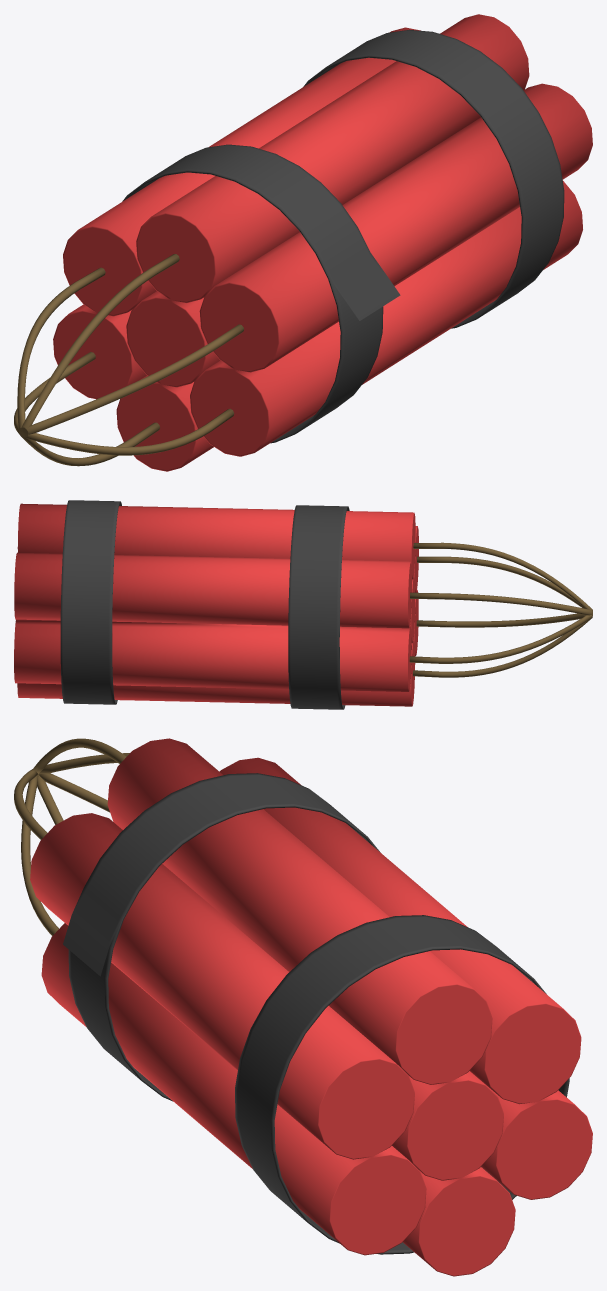
Rendered from Dynamite.fbx.
3 renders of one model, top to bottom at view 1: azimuth 30°, elevation 25°; view 2: azimuth 150°, elevation 25°; view 3: azimuth 270°, elevation 25°, orthographic. The views are drawn at different scales.
Visible parts, largest first — view 1: Dynamite; view 2: Dynamite; view 3: Dynamite.
Part boxes in pixels (x1,y1,x2,y2): Dynamite: (14,14,592,471); Dynamite: (14,500,592,709); Dynamite: (14,738,592,1276).
Size of the model in its own units: 55.22 by 20.25 by 35.12.
